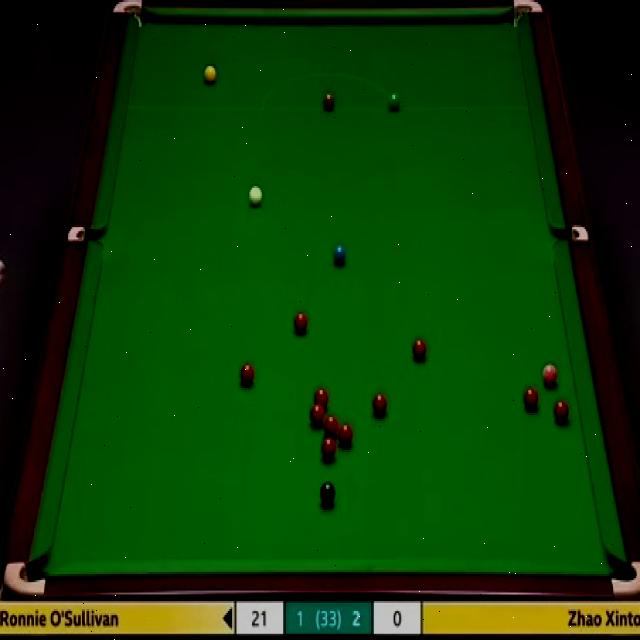black-ball: (319, 481, 336, 507)
blue-ball: (332, 242, 348, 264)
brown-ball: (322, 90, 335, 112)
green-ball: (388, 93, 401, 110)
pink-ball: (542, 361, 558, 388)
red-ball: (239, 361, 256, 389), (524, 386, 542, 411), (372, 391, 388, 416), (338, 424, 354, 448), (554, 400, 570, 423), (293, 312, 309, 334), (412, 338, 426, 361), (322, 438, 335, 461), (312, 388, 330, 404), (324, 418, 340, 435), (310, 403, 324, 419)
white-ball: (247, 179, 263, 204)
yellow-ball: (204, 66, 218, 86)
